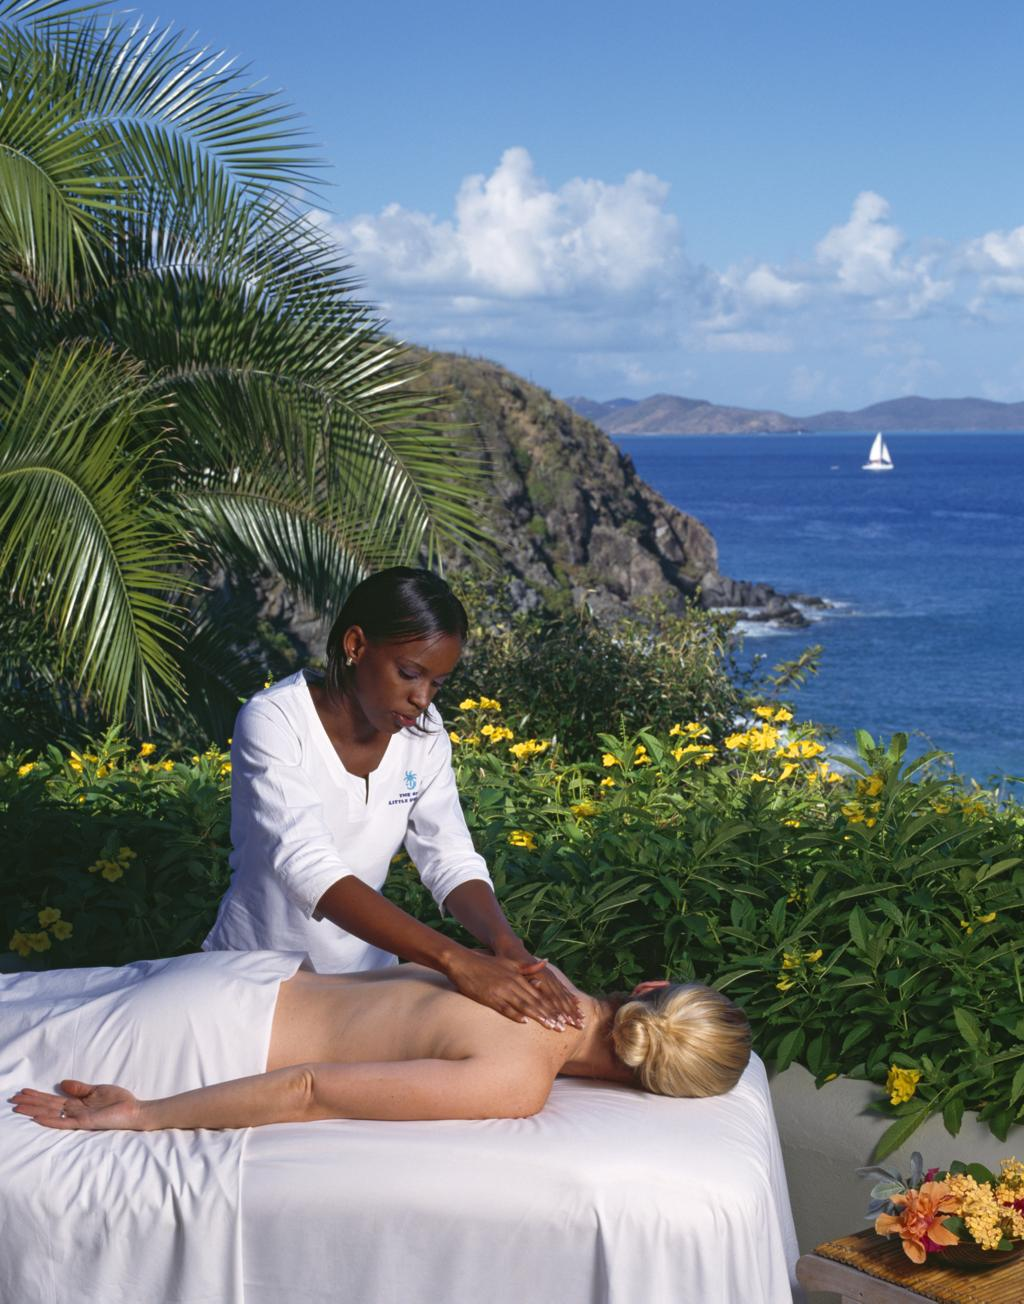face: (364, 644, 453, 733)
